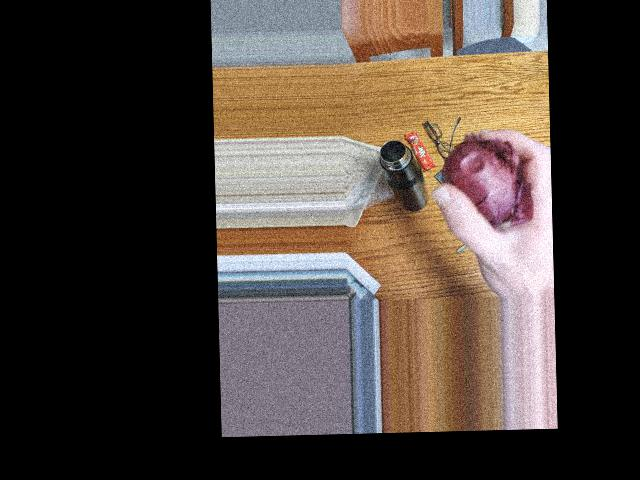onion: (440, 140, 524, 227)
